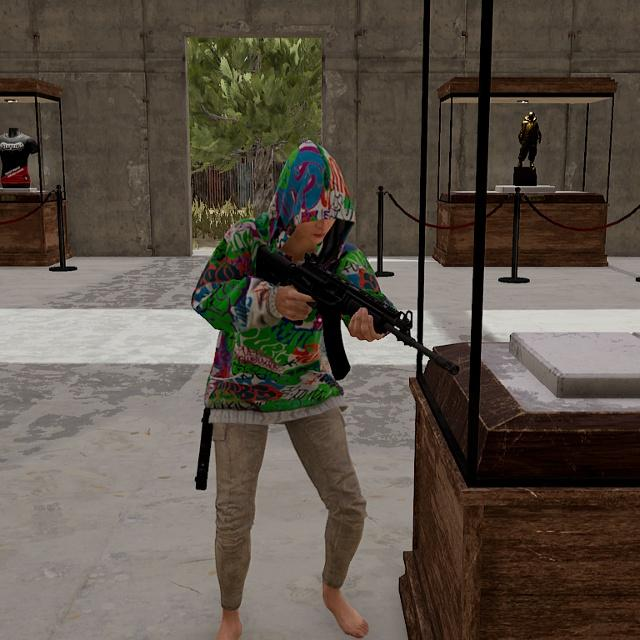head: (271, 139, 353, 253)
people: (190, 133, 384, 640)
